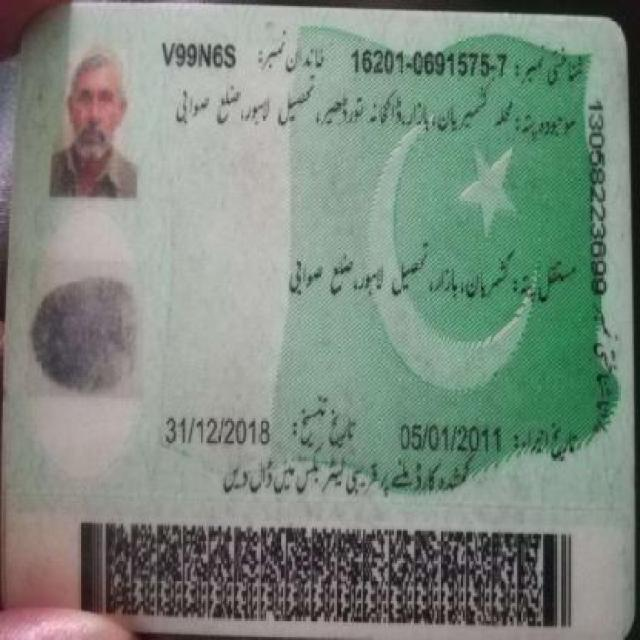Back: (9, 15, 631, 634)
